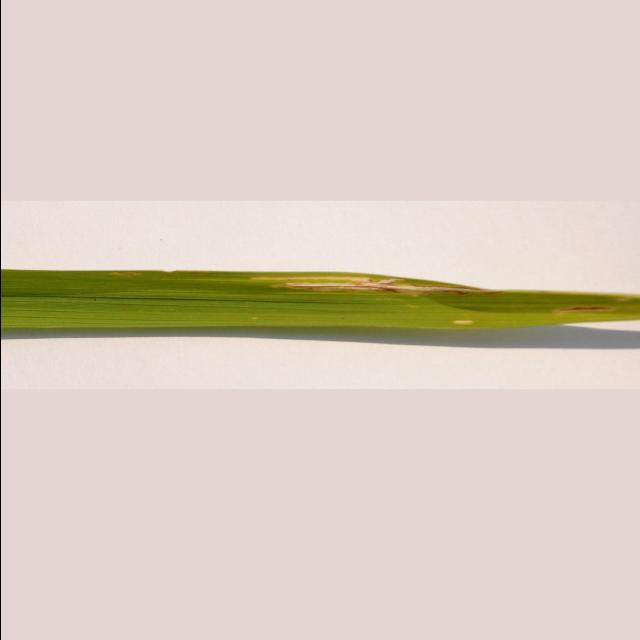Bacterial leaf blight: (0, 140, 640, 390)
